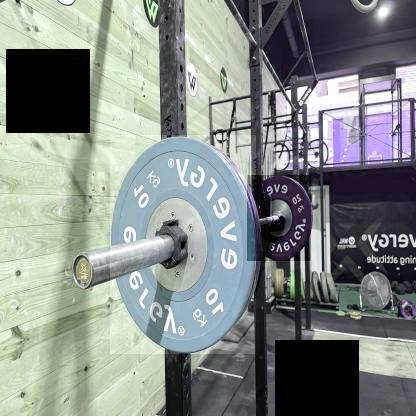barbell: (108, 135, 255, 354), (245, 176, 309, 262)
